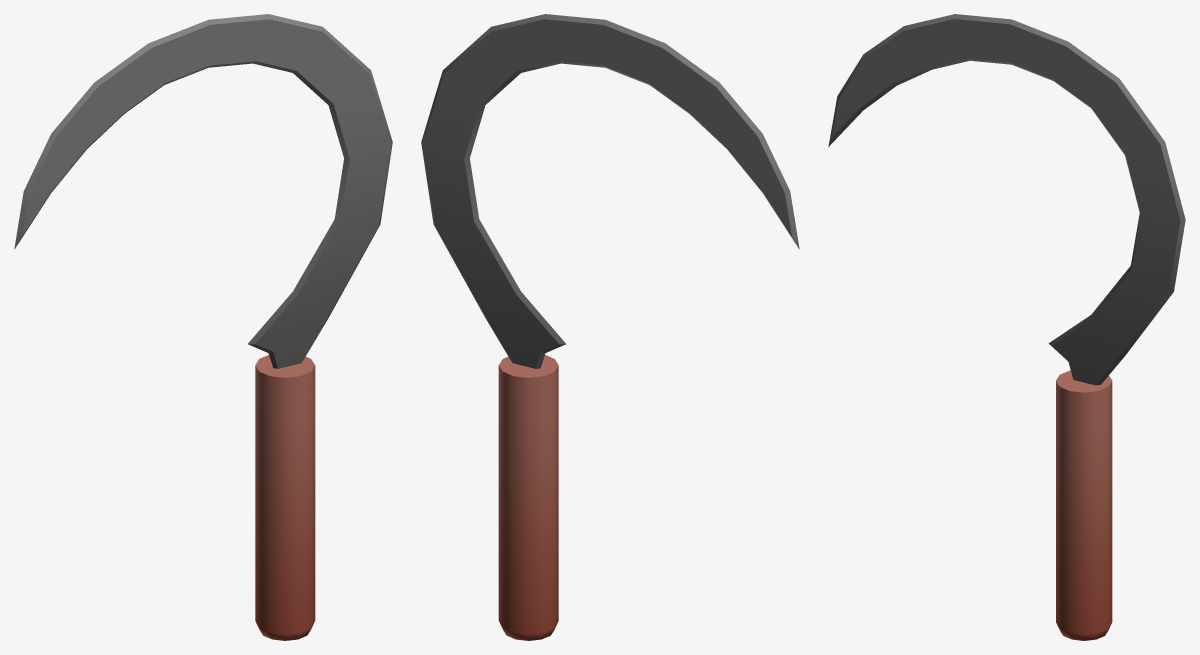
Rendered from SM_Liem.fbx.
3 renders of one model, left to right at view 1: azimuth 30°, elevation 25°; view 2: azimuth 150°, elevation 25°; view 3: azimuth 330°, elevation 25°, orthographic. The views are drawn at different scales.
Visible parts, largest first — view 1: SM_Liem; view 2: SM_Liem; view 3: SM_Liem.
Boxes of the visible parts, box(x1,y1,x2,y2) form: SM_Liem: box(14, 14, 392, 640); SM_Liem: box(421, 14, 799, 640); SM_Liem: box(828, 14, 1185, 640).
Size of the model in its own units: 2.16 by 3.46 by 0.2968.
